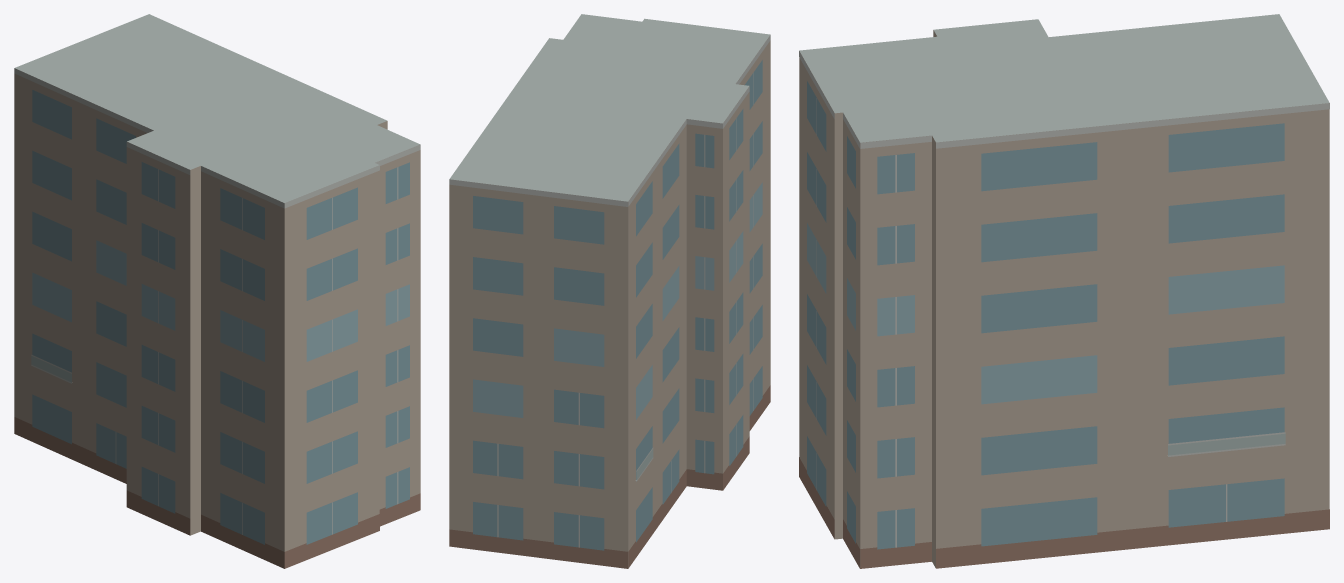
The model's file is survey-upis-32621877.glb.
3 renders of one model, left to right at view 1: azimuth 30°, elevation 25°; view 2: azimuth 150°, elevation 25°; view 3: azimuth 270°, elevation 25°, orthographic. The views are drawn at different scales.
Parts seen in each view (by area): view 1: survey-upis-32621877.tmp; view 2: survey-upis-32621877.tmp; view 3: survey-upis-32621877.tmp.
Boxes of the visible parts, x1,y1,x2,y2 form: survey-upis-32621877.tmp: [14, 14, 420, 568]; survey-upis-32621877.tmp: [449, 14, 770, 568]; survey-upis-32621877.tmp: [799, 14, 1329, 568].
Size of the model in its own units: 10.76 by 16.6 by 18.74.
